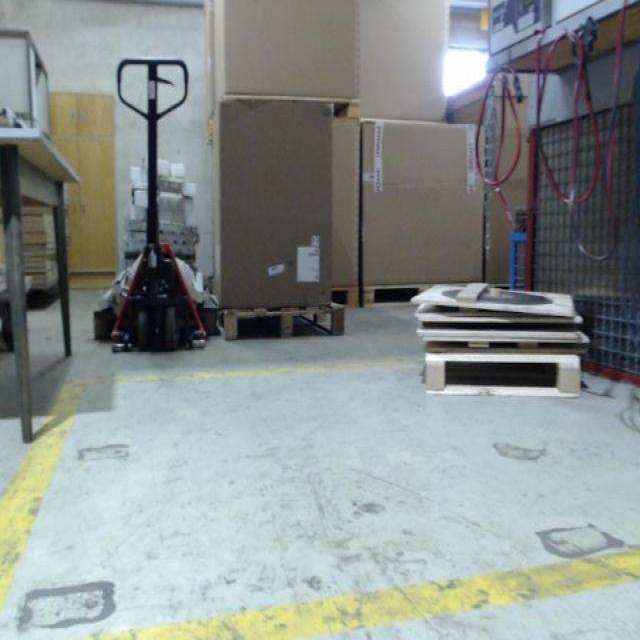pallet: (422, 350, 584, 402), (221, 301, 347, 342), (222, 98, 364, 120), (362, 284, 435, 308), (331, 285, 359, 310)
pallet_truck: (85, 48, 221, 348)
